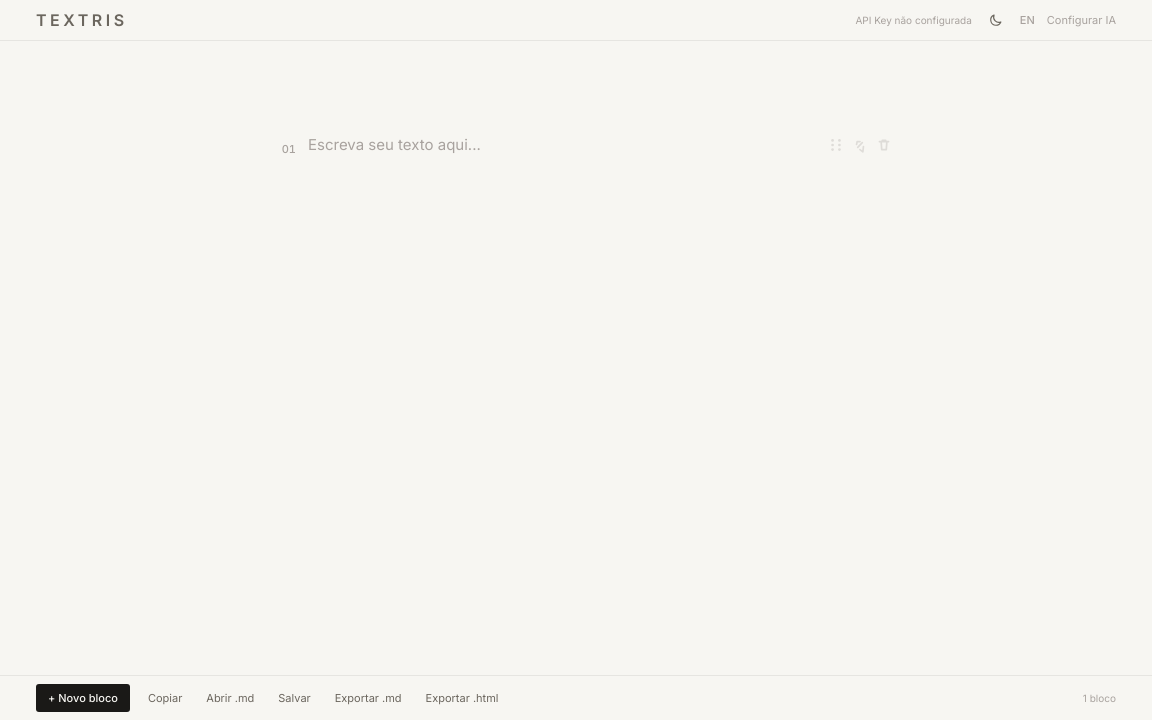
App › saves document on save button click
What coordinates should you click on to do the following:
click the button "Salvar"
I would click on:
 (294, 698)
Its box is [272, 688, 317, 708].
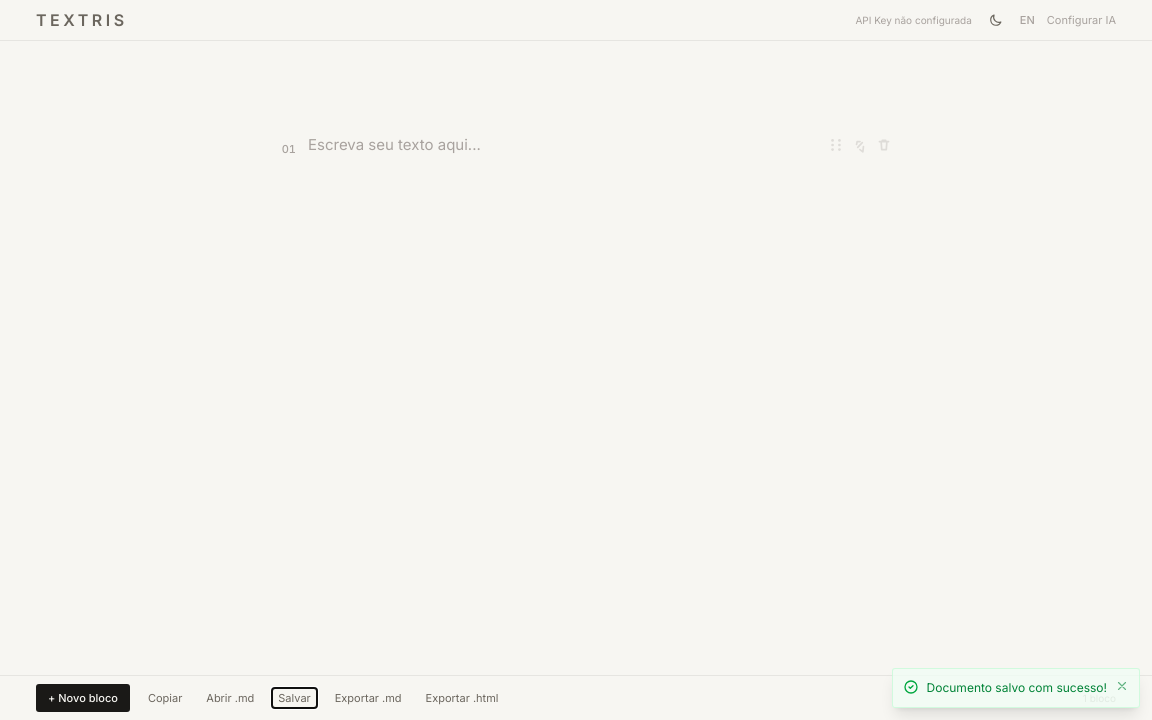
Expected: the text "Documento salvo com sucesso!" is shown, [927, 679, 1107, 697]
